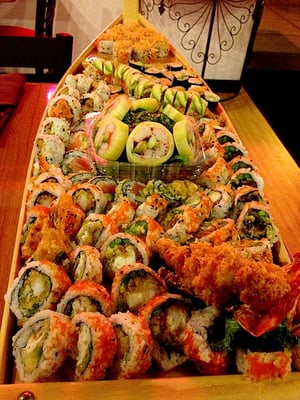sandwich: (1, 10, 296, 392)
